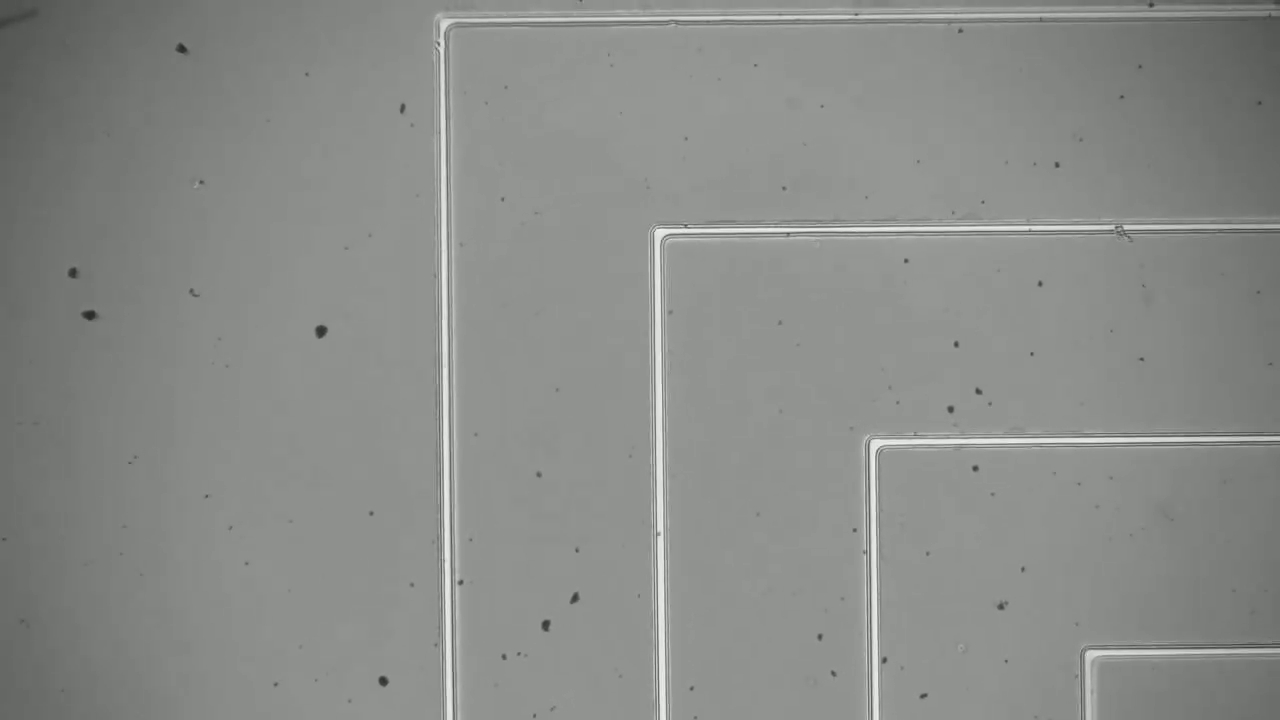stains_enbedded: (1106, 213, 1144, 251)
